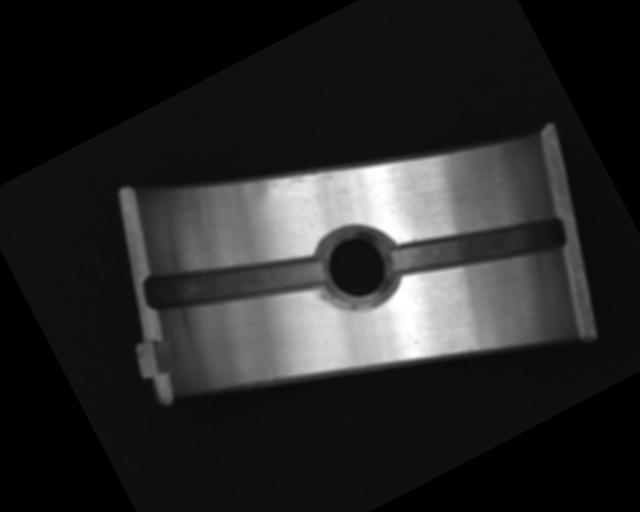gap: (143, 206, 329, 358), (388, 173, 573, 318)
hole: (302, 210, 414, 325)
